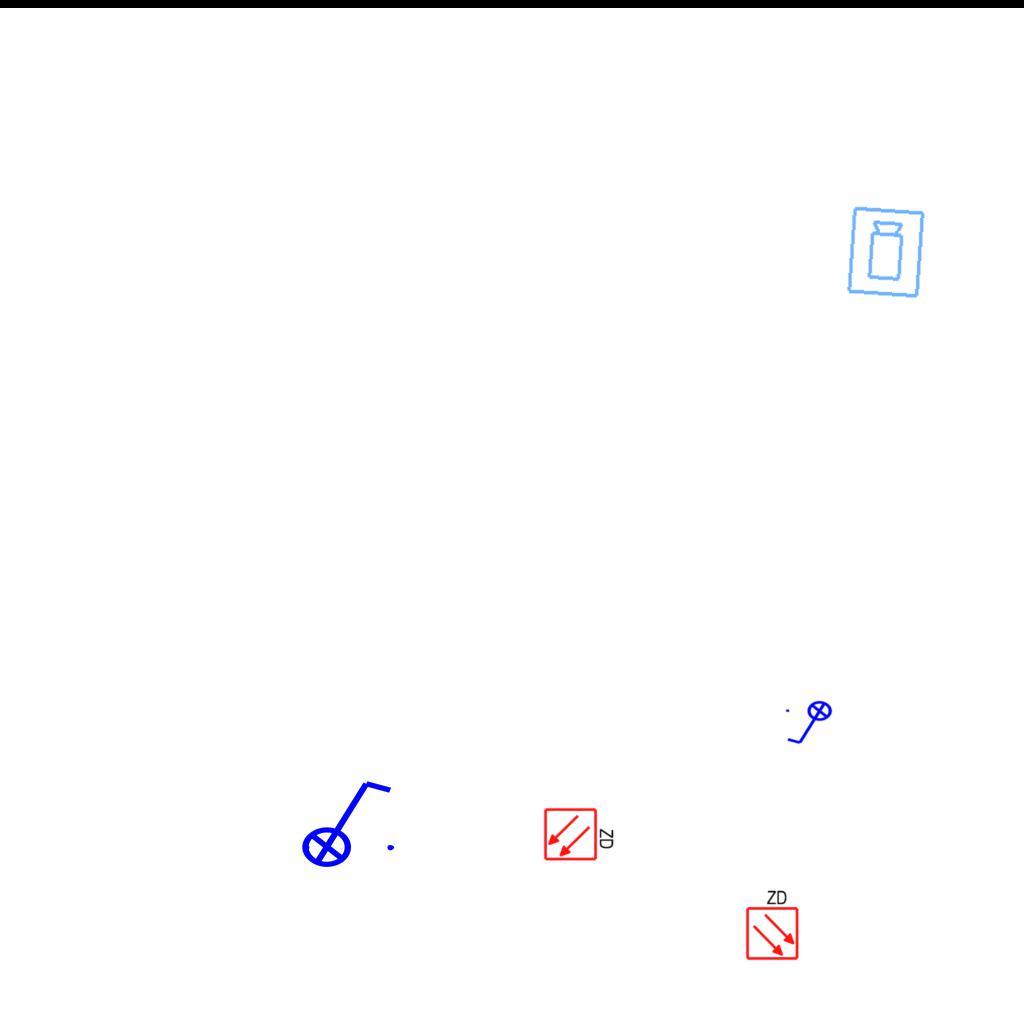Ausschalter_beleuchtet: (288, 773, 400, 869), (783, 700, 839, 748)
KFO_Kamera_mit_Festobjektiv: (844, 204, 929, 301)
ZD_Melder_in_Zwischendecke_mit_Revisionsoeffnung_mind_40_x_40_cm: (743, 887, 800, 961), (543, 805, 617, 862)
